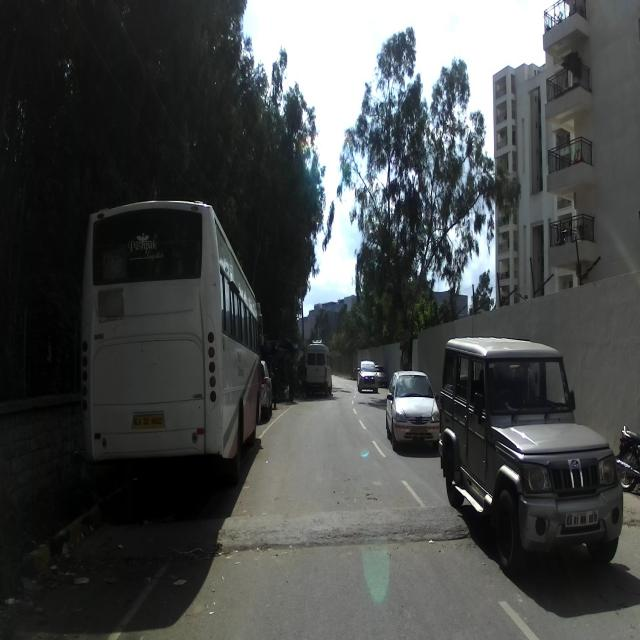Car_Mahindra: (438, 332, 624, 574)
Car_TATA: (383, 366, 440, 452)
bus: (79, 198, 265, 496)
